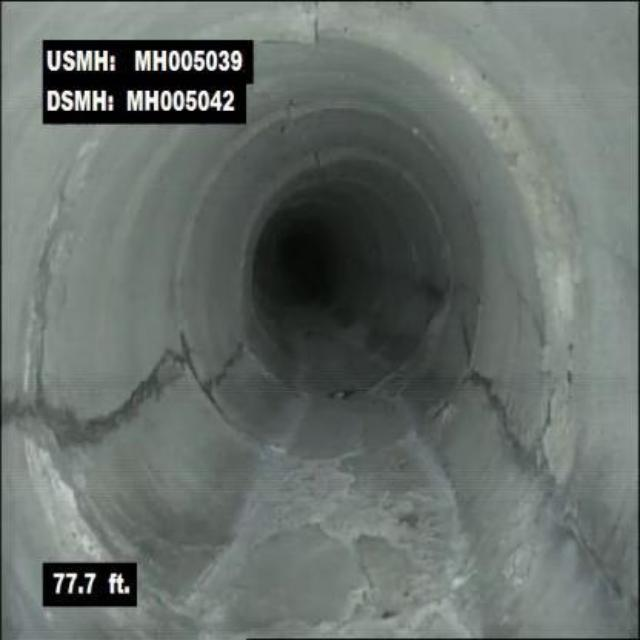Buckling: (255, 2, 422, 68)
Crack: (58, 345, 186, 452), (469, 368, 538, 466)
